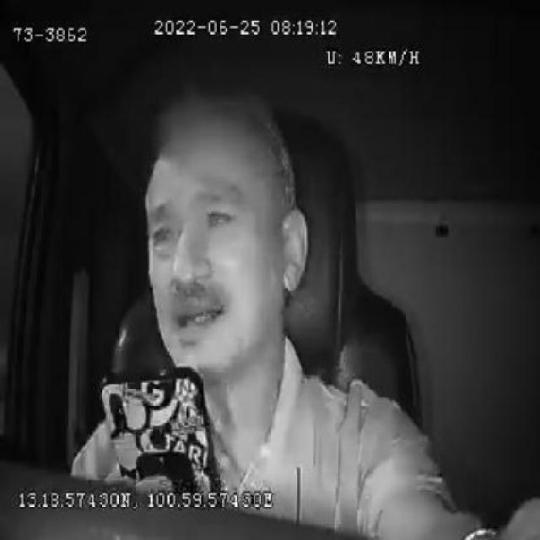phone: (98, 363, 223, 486)
